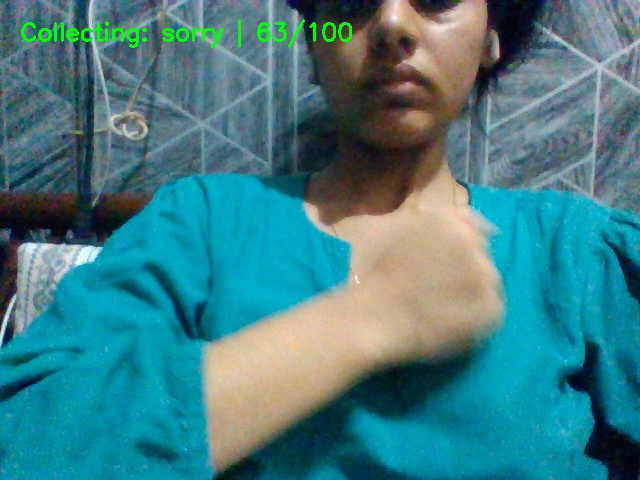sorry: (341, 194, 509, 409)
